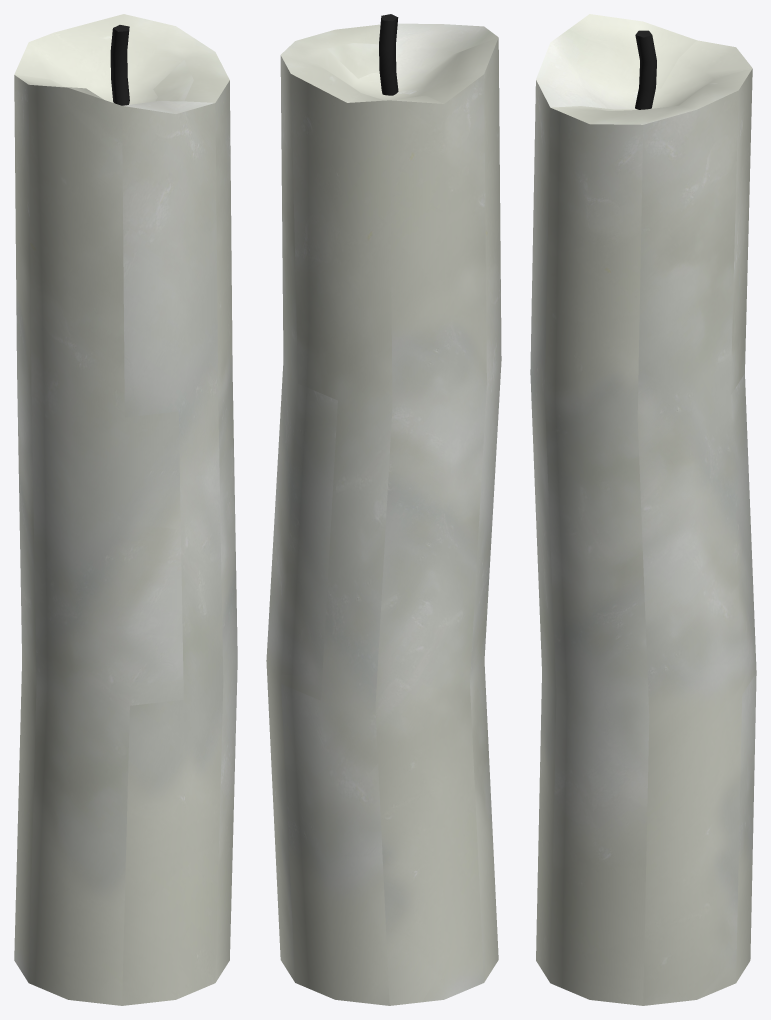
Rendered from Candle.FBX.
3 renders of one model, left to right at view 1: azimuth 30°, elevation 25°; view 2: azimuth 150°, elevation 25°; view 3: azimuth 270°, elevation 25°, orthographic.
Visible parts, largest first — view 1: Cylinder001, Cylinder002; view 2: Cylinder001, Cylinder002; view 3: Cylinder001, Cylinder002.
Boxes of the visible parts, x1,y1,x2,y2 form: Cylinder001: (14,14,237,1005); Cylinder002: (110,25,129,105); Cylinder001: (266,23,501,1005); Cylinder002: (379,14,398,95); Cylinder001: (530,14,756,1005); Cylinder002: (635,30,656,109).
Bounding box in the file's own units: 0.6981 × 3.14 × 0.6952.
Materials: 2 (1 with a texture image).
